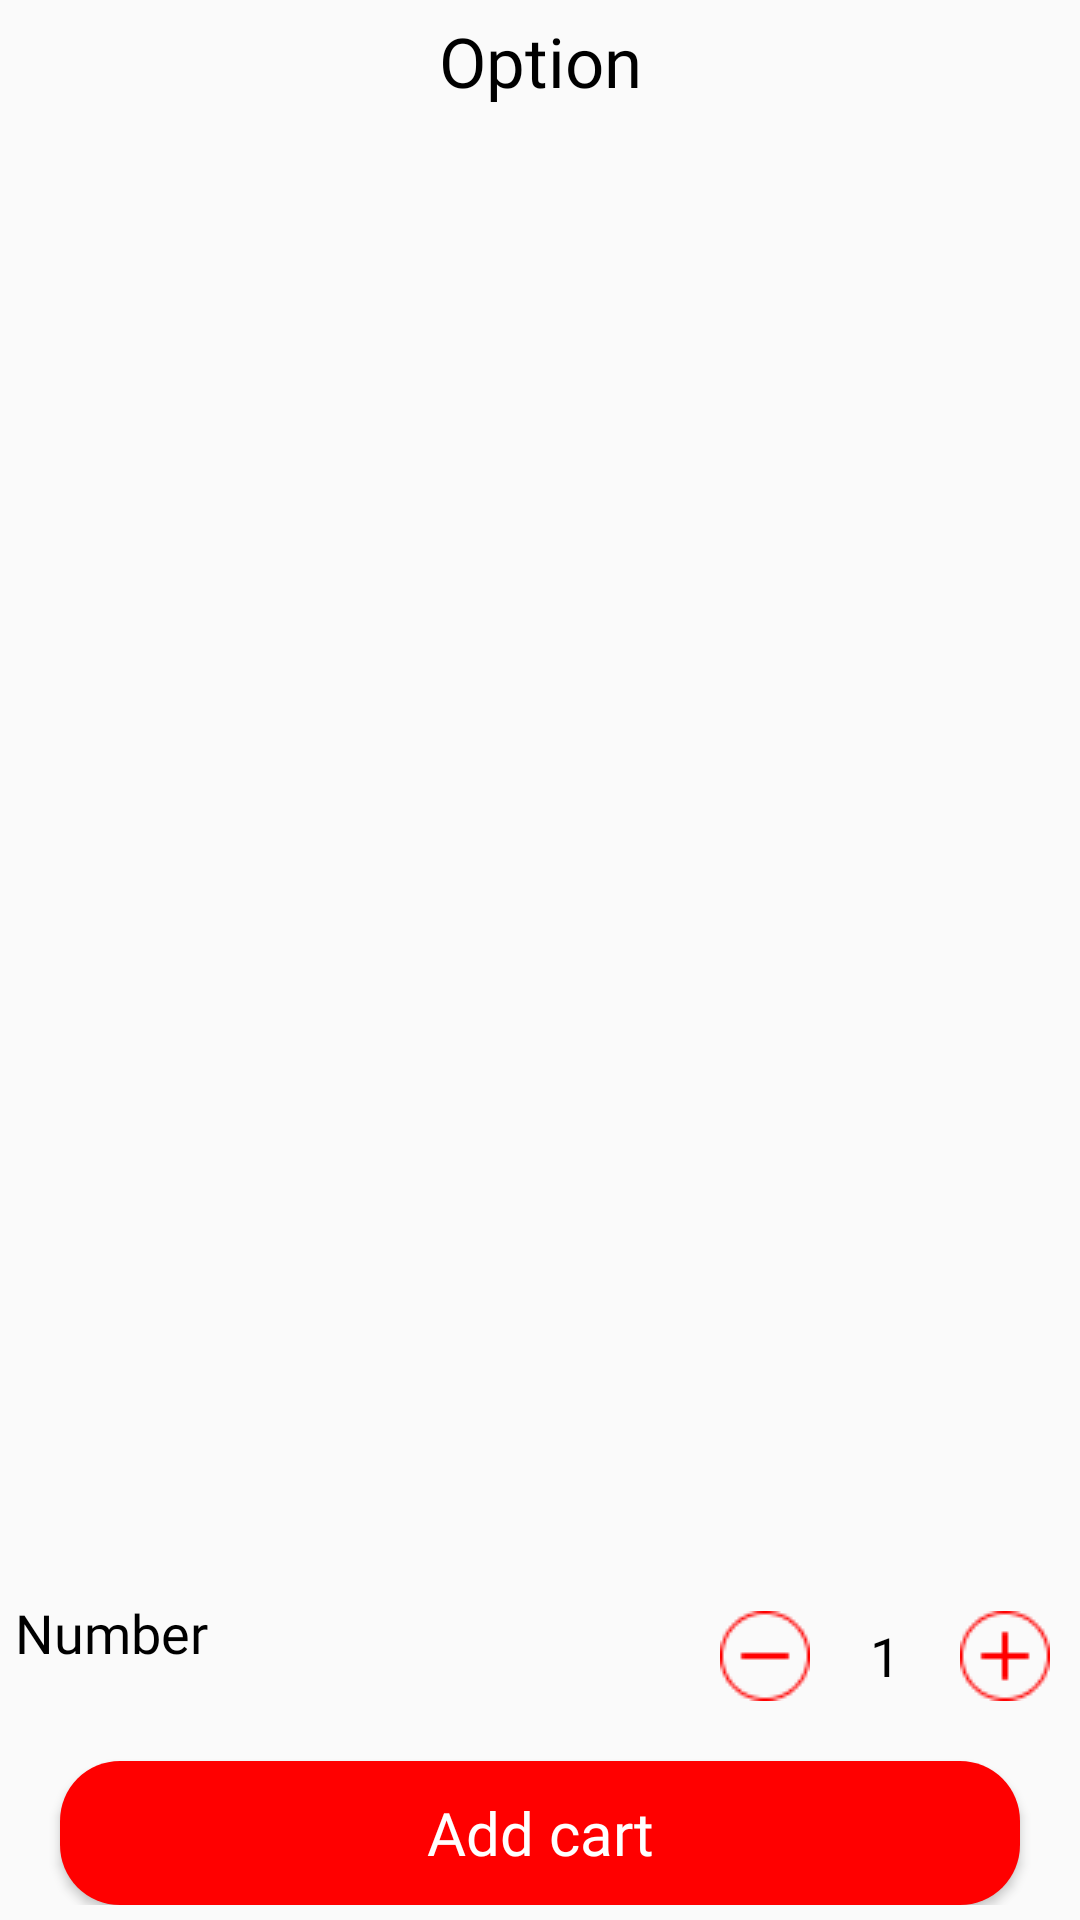

Locate icon controls on the screen. Image size 1080 × 1920, boxes as [x1, y1, x2, y2].
decrease: [720, 1611, 810, 1701]
increase: [960, 1611, 1050, 1701]
